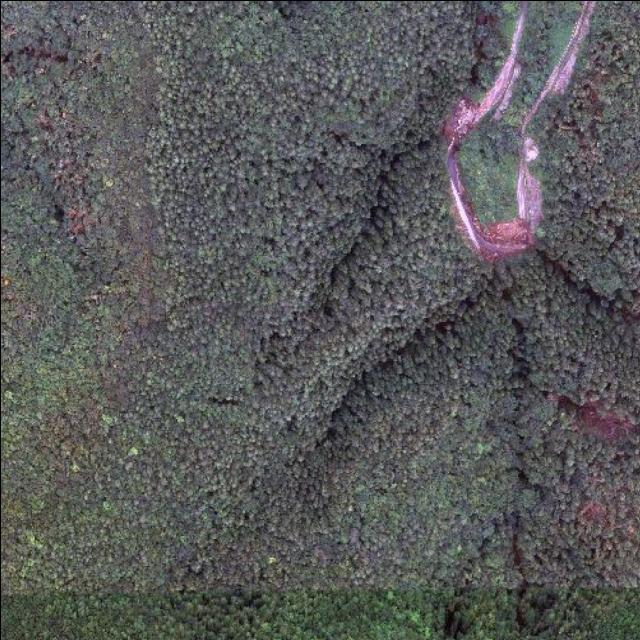landslide: (444, 0, 594, 259)
